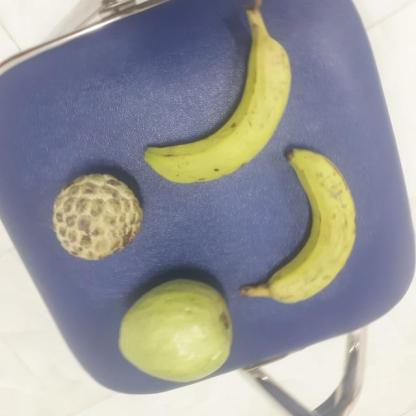annona: (48, 172, 142, 260)
banana: (133, 19, 288, 181), (239, 150, 354, 309)
guava: (116, 278, 231, 386)
